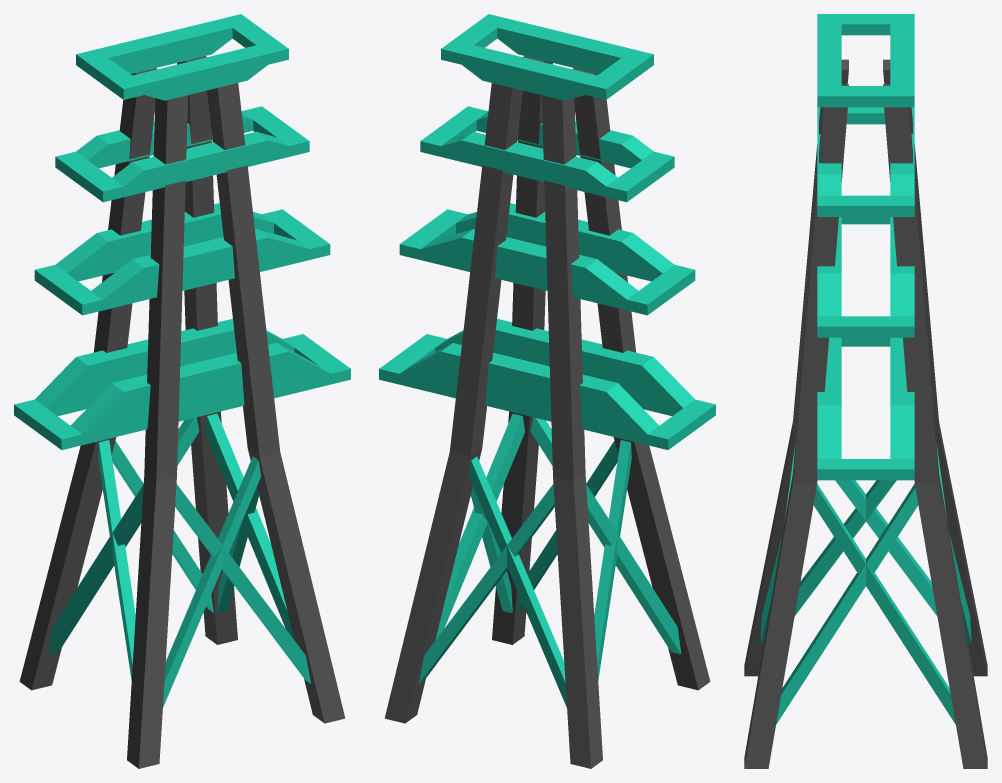
The model's file is somewhere.glb.
3 renders of one model, left to right at view 1: azimuth 30°, elevation 25°; view 2: azimuth 150°, elevation 25°; view 3: azimuth 270°, elevation 25°, orthographic. The views are drawn at different scales.
Visible parts, largest first — view 1: somewhere; view 2: somewhere; view 3: somewhere.
Boxes of the visible parts, bbox=[...] form: somewhere: bbox=[14, 14, 350, 768]; somewhere: bbox=[379, 14, 715, 768]; somewhere: bbox=[744, 14, 987, 768].
Size of the model in its own units: 1.4 by 3 by 1.
